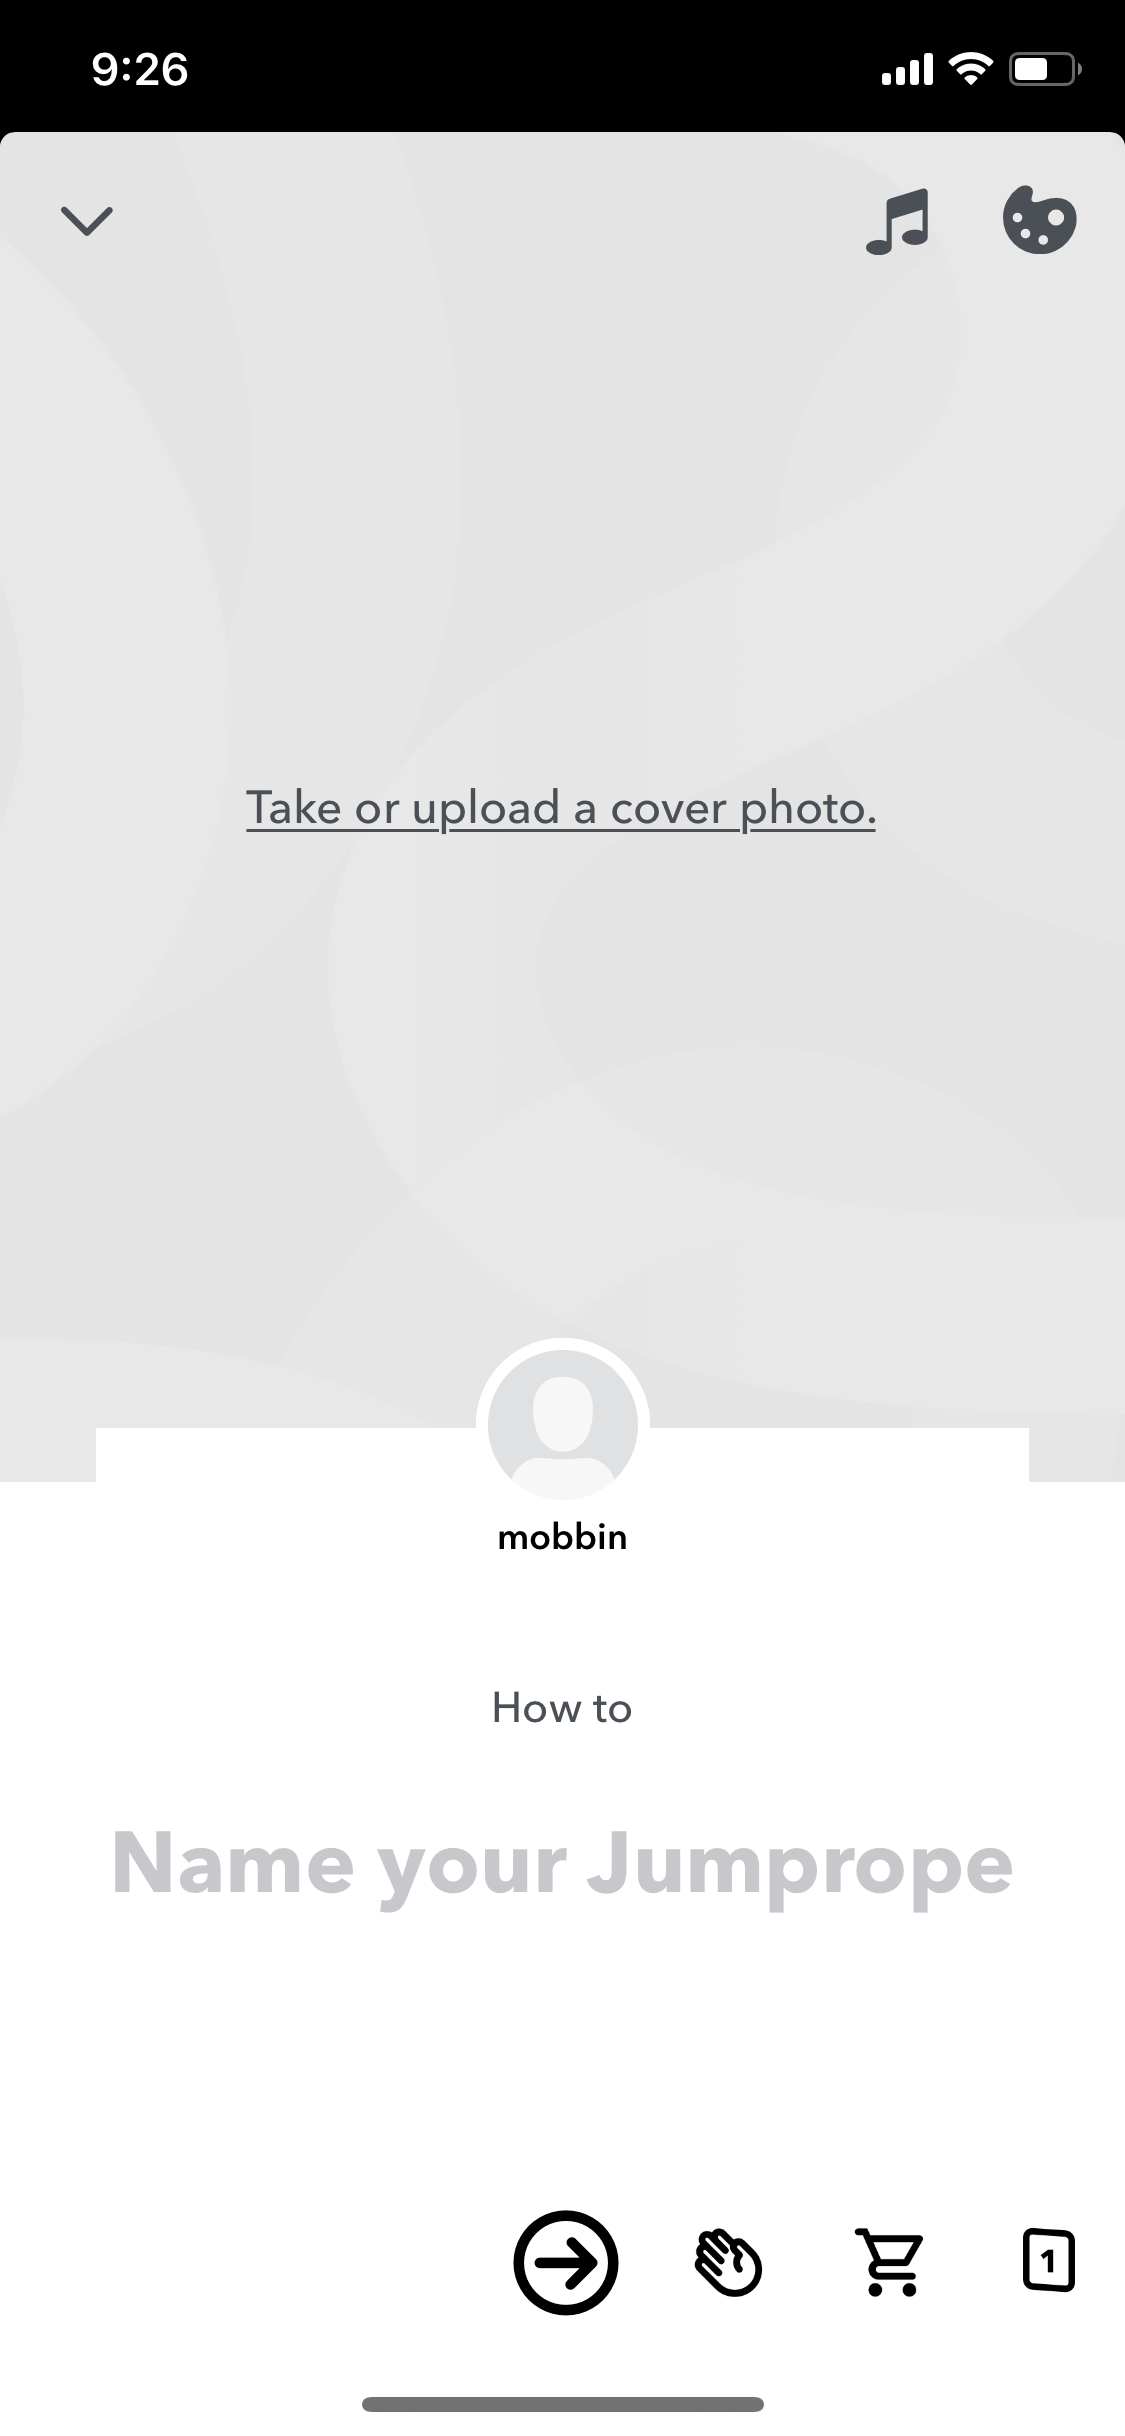Buttons: (800, 148, 949, 284), (16, 146, 152, 283), (980, 148, 1103, 286), (500, 2200, 629, 2327), (830, 2205, 948, 2323), (991, 2203, 1102, 2323), (674, 2205, 782, 2327)
Text Fields: (54, 1665, 1069, 1965)
